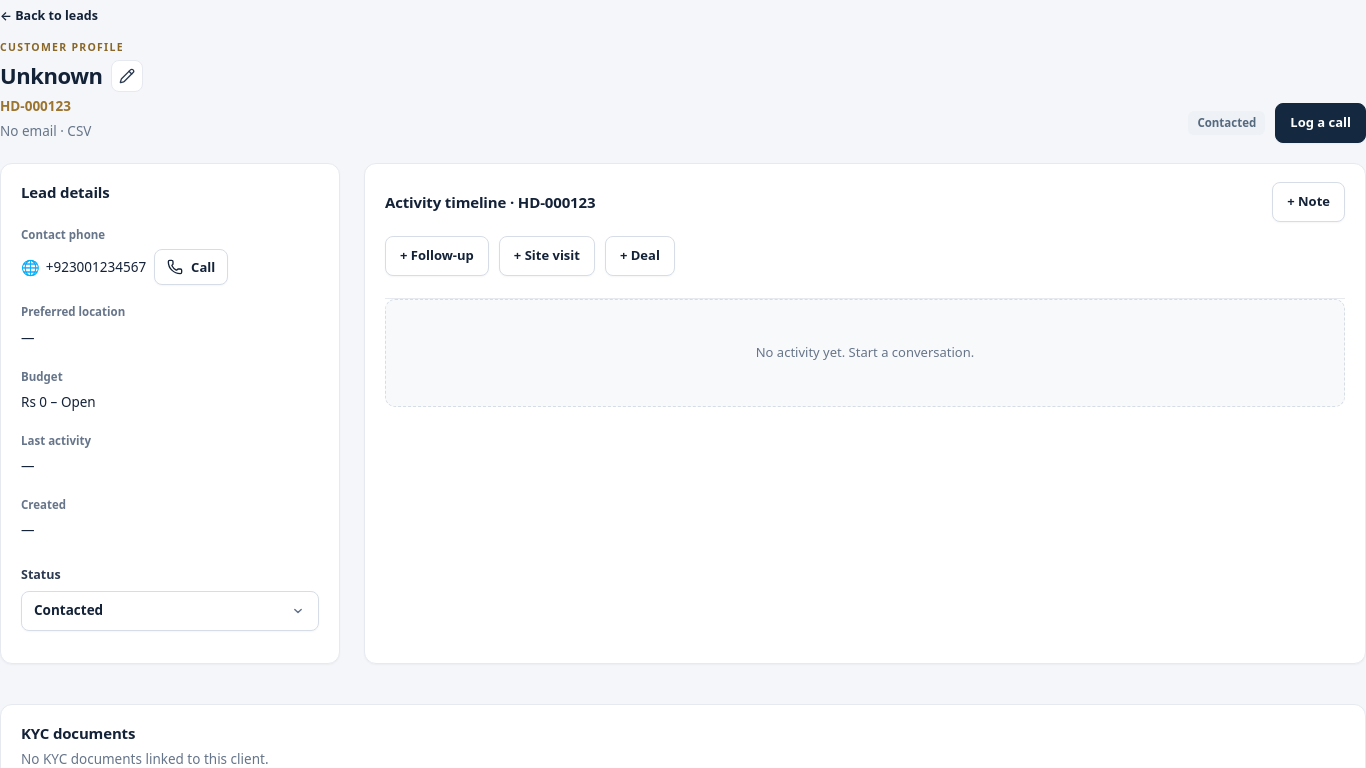
editing a customer's name › lets the lead's agent correct it, and shows it at once
The width and height of the screenshot is (1366, 768).
Check: the heading "Unknown" is shown, box left=0, top=62, right=103, bottom=90
Click the button named "Edit customer name: Unknown": (127, 76) left=111, top=60, right=143, bottom=92
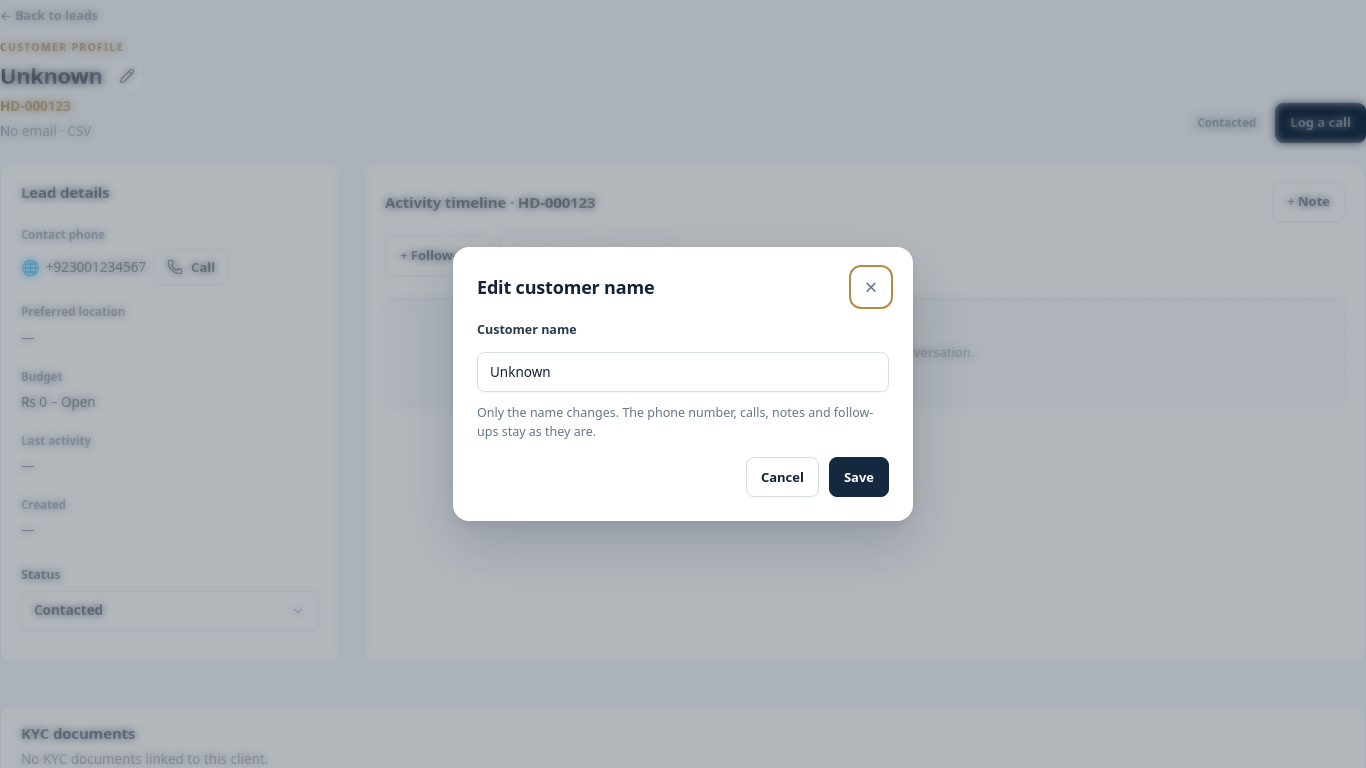
Check: the field labelled "Customer name" holds "Unknown", box left=477, top=352, right=889, bottom=392
Click the button "Save": (859, 477) left=829, top=457, right=889, bottom=497
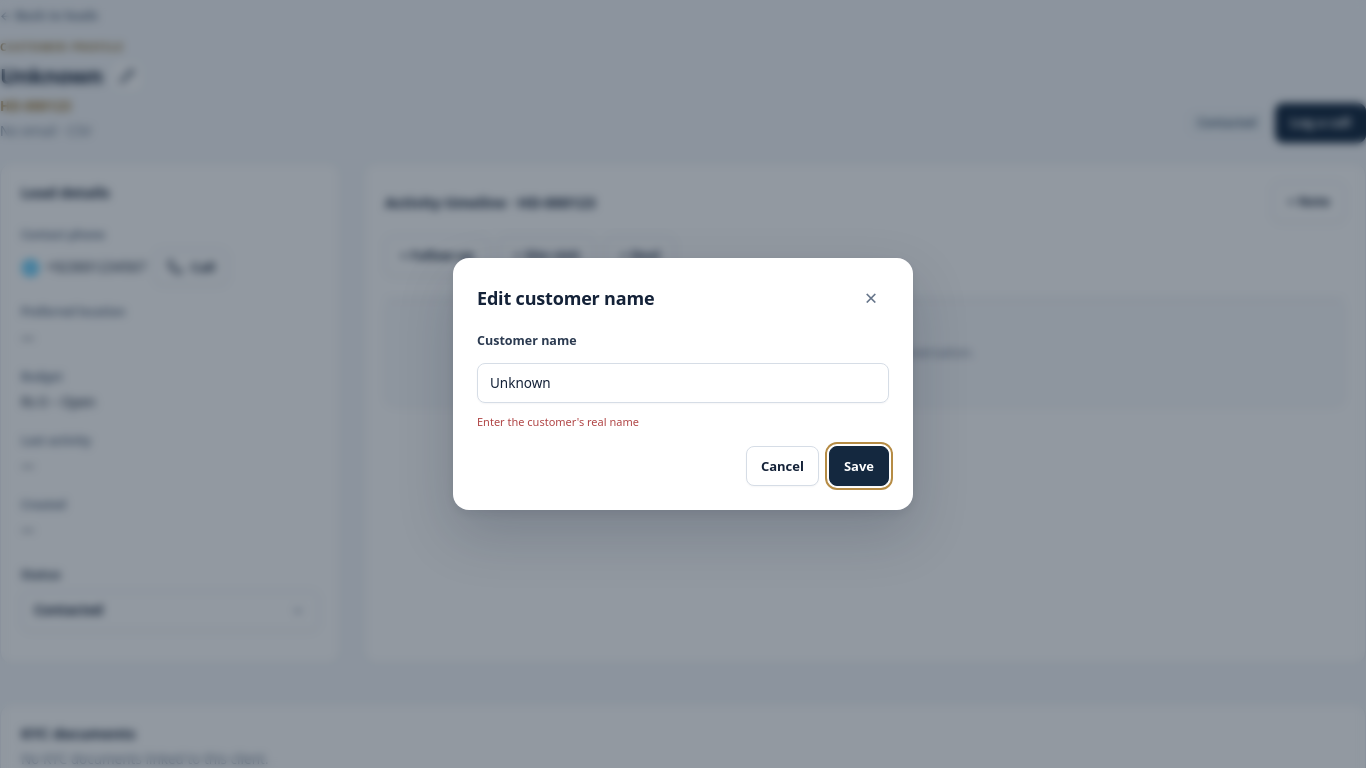
Check: the text "Enter the customer's real name" is shown, box left=477, top=414, right=639, bottom=429
Replace the text in the field labelled "Customer name" with "  Ayesha   Malik ": (683, 383) left=477, top=362, right=889, bottom=403
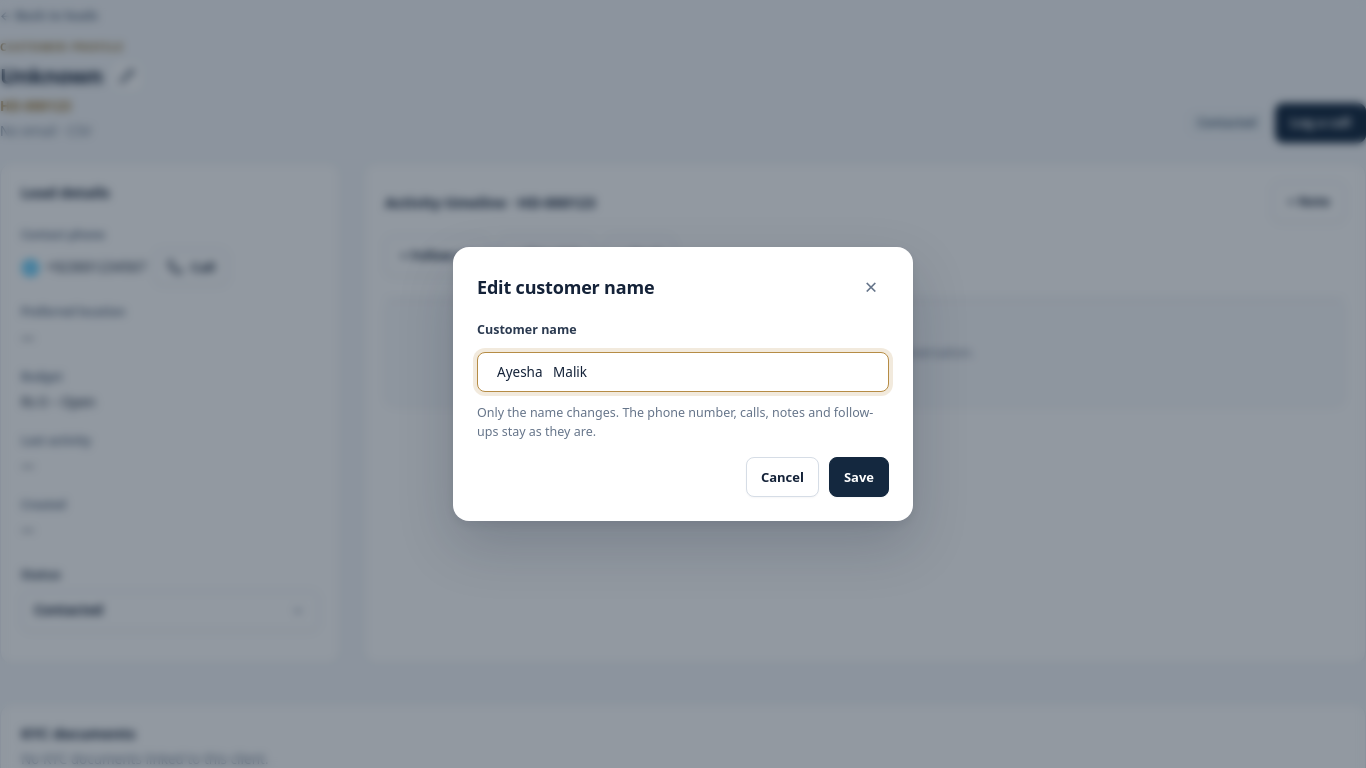
Click the button "Save": (859, 477) left=829, top=457, right=889, bottom=497
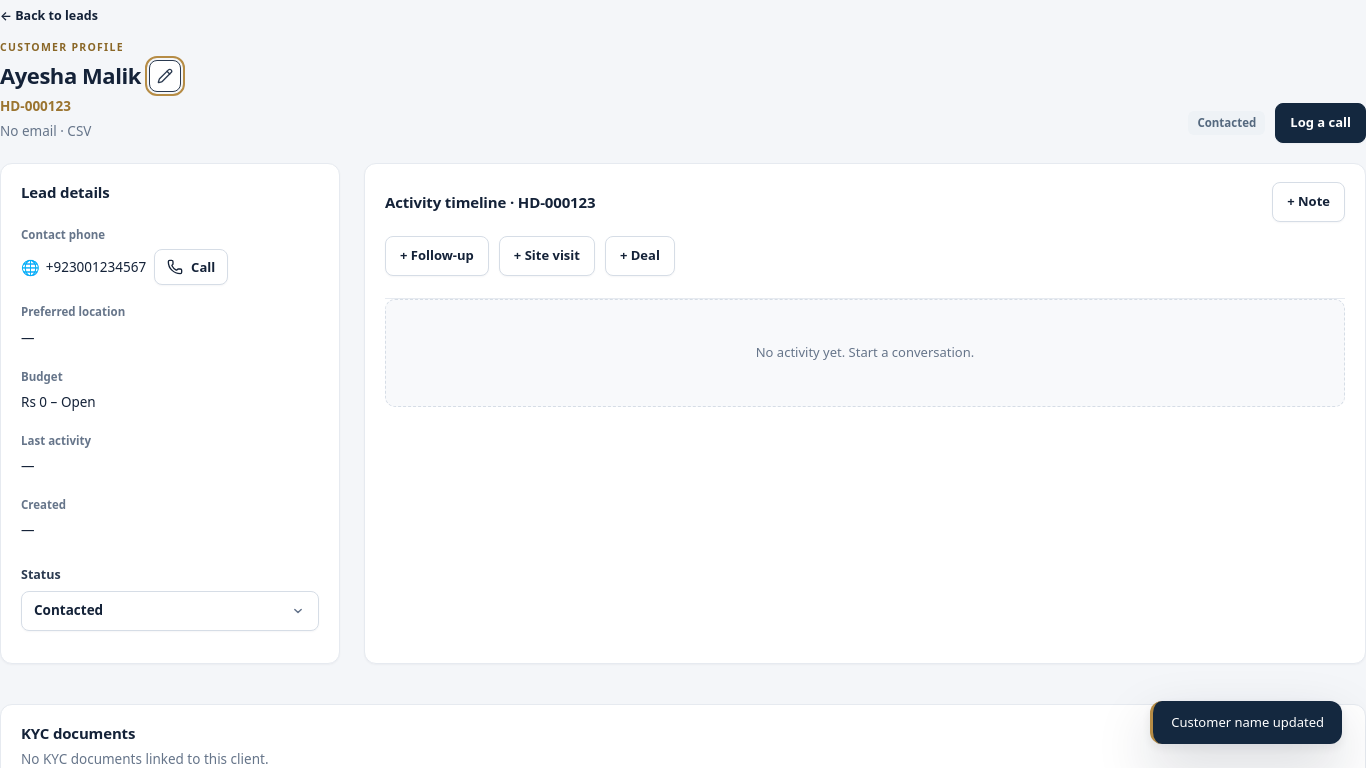
Check: the heading "Ayesha Malik" is shown, box left=0, top=62, right=141, bottom=90
Check: the text "Customer name updated" is shown, box left=1150, top=700, right=1342, bottom=744
Check: the dialog is gone
